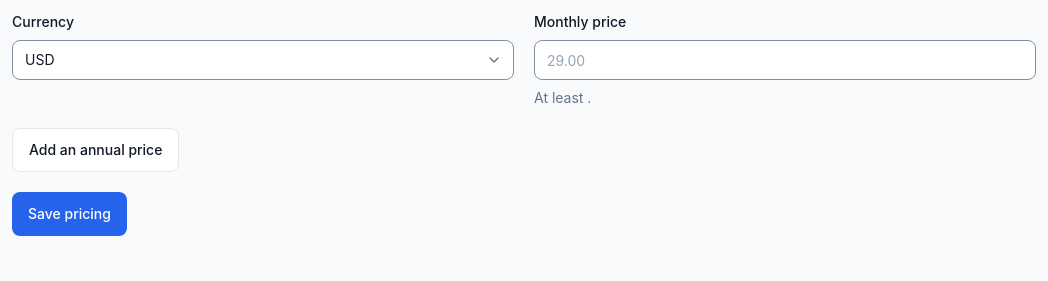
Test: PlanForm › shows field errors and does not submit invalid prices
Type "abc" into the field labelled "Monthly price" at (785, 60), box [534,40,1036,80]
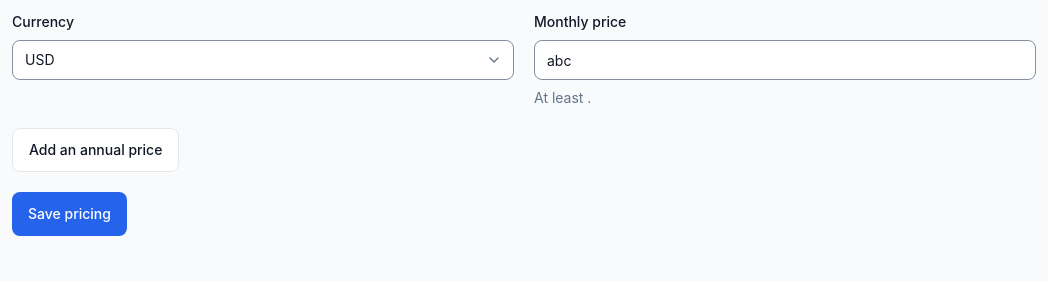
Click the button "Save pricing" at (69, 214), box [12,192,127,236]
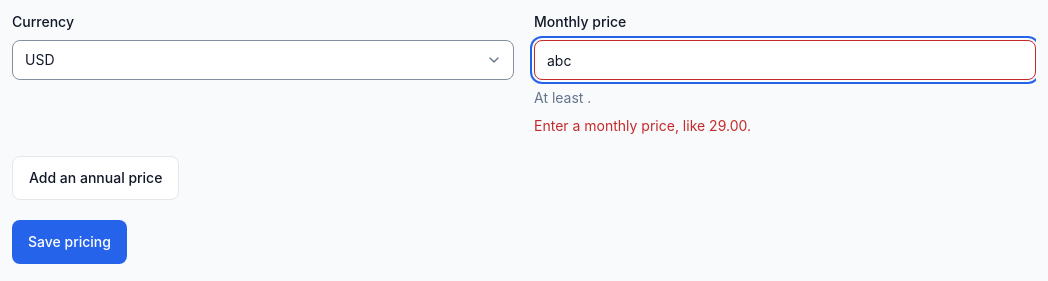
Check: the text "Enter a monthly price, like 29.00." is shown, box [534,117,751,134]
